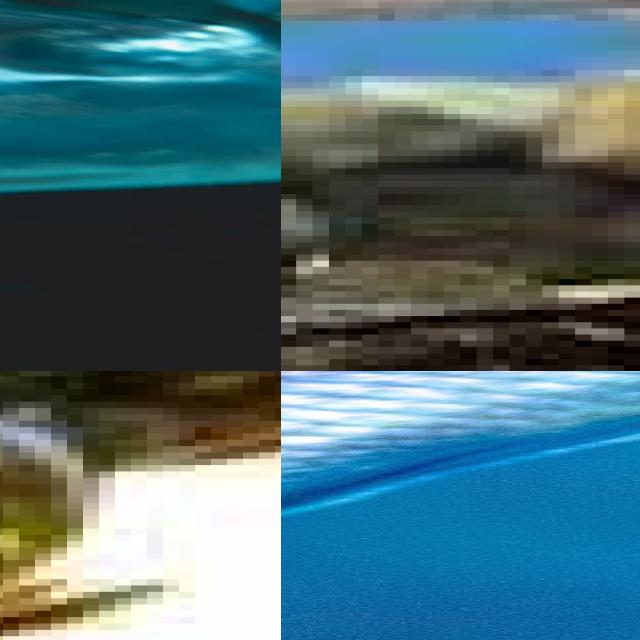fish: (0, 0, 281, 371), (281, 371, 640, 640), (0, 371, 281, 592), (281, 0, 640, 131)
